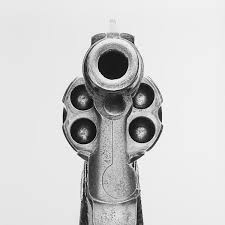gun: (60, 31, 164, 225)
